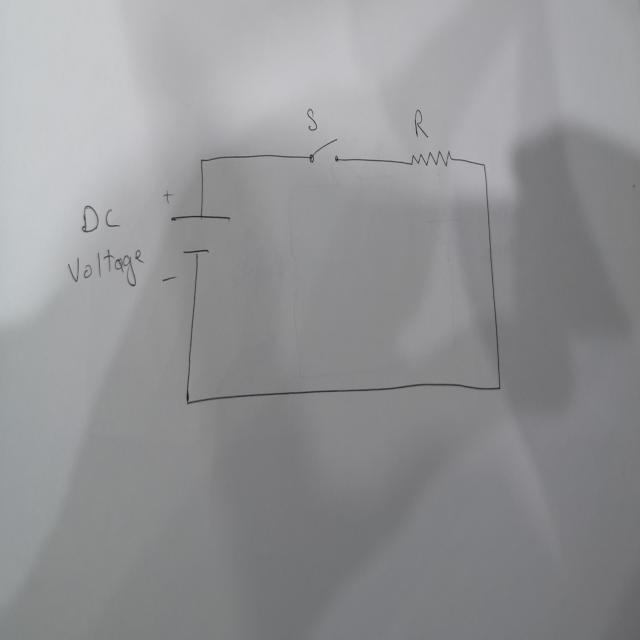junction: (478, 156, 488, 177), (183, 392, 191, 408), (198, 153, 205, 169), (496, 380, 502, 394)
resistor: (408, 147, 453, 170)
source: (169, 210, 236, 259)
switch: (307, 132, 342, 166)
text: (66, 242, 146, 291), (78, 202, 125, 238), (413, 106, 429, 140), (306, 105, 319, 132)
